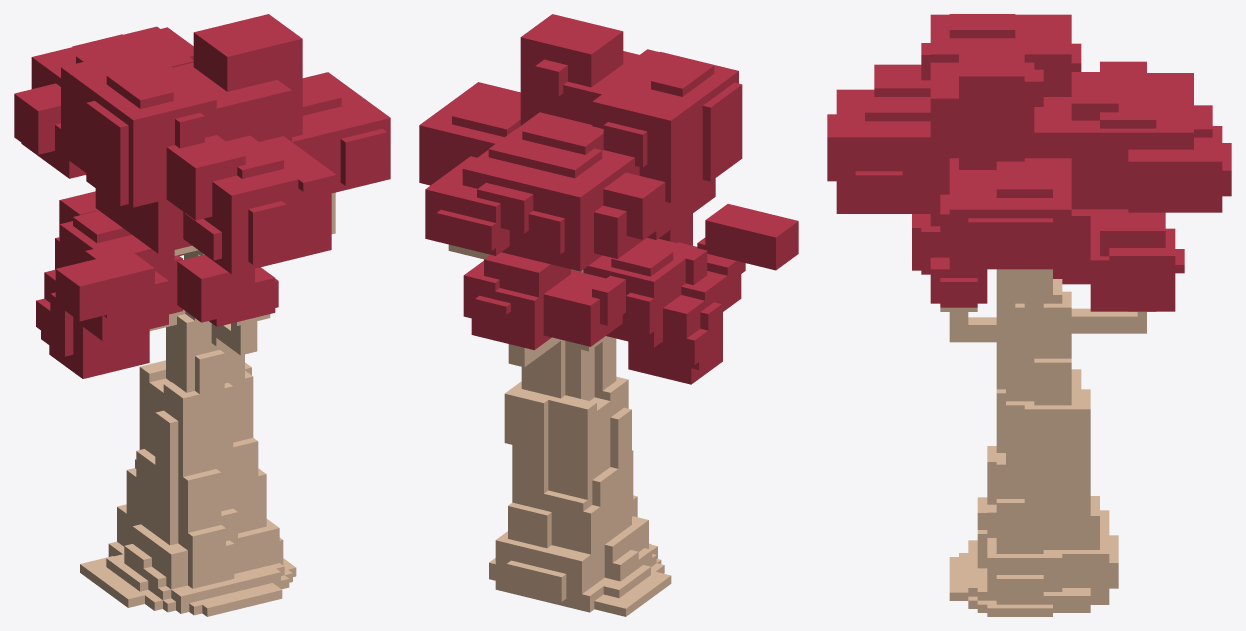
Rendered from mapkari-3.obj.
3 renders of one model, left to right at view 1: azimuth 30°, elevation 25°; view 2: azimuth 150°, elevation 25°; view 3: azimuth 270°, elevation 25°, orthographic. The views are drawn at different scales.
Visible parts, largest first — view 1: mapkari-3; view 2: mapkari-3; view 3: mapkari-3.
Boxes of the visible parts, x1,y1,x2,y2 form: mapkari-3: (14, 14, 390, 616); mapkari-3: (419, 14, 798, 616); mapkari-3: (827, 14, 1231, 616).
Bounding box in the file's own units: 40 × 63 × 43.
